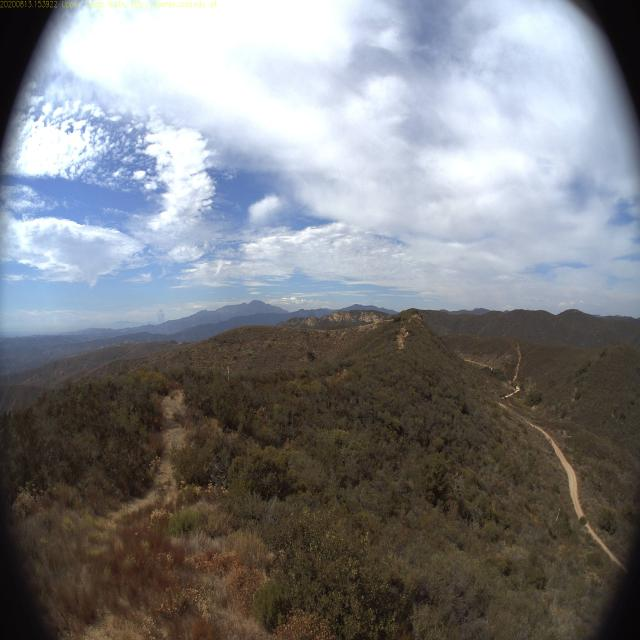smoke: (156, 300, 168, 330)
